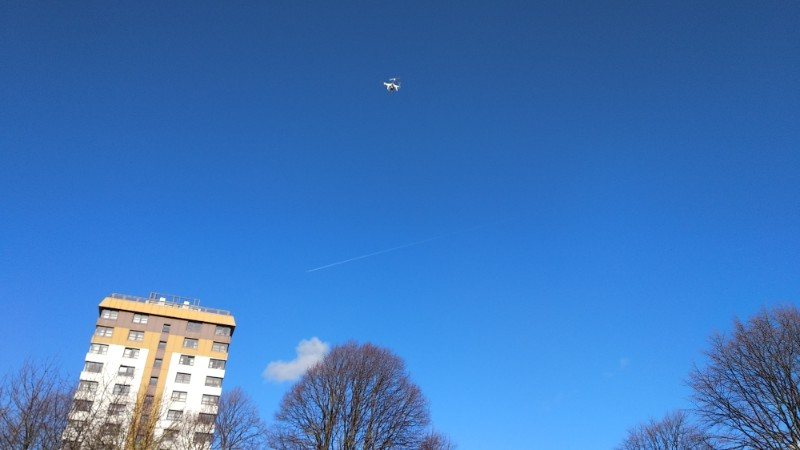drone: (381, 74, 404, 96)
